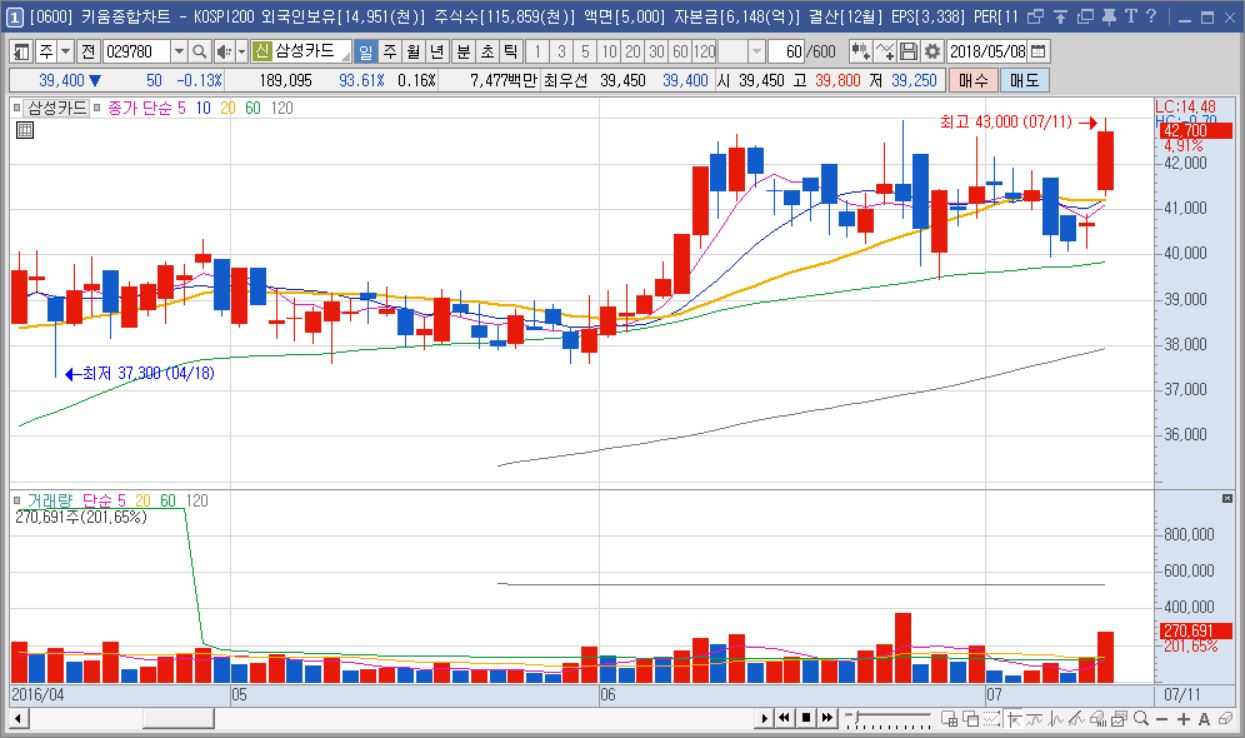up: (582, 109, 1116, 679)
